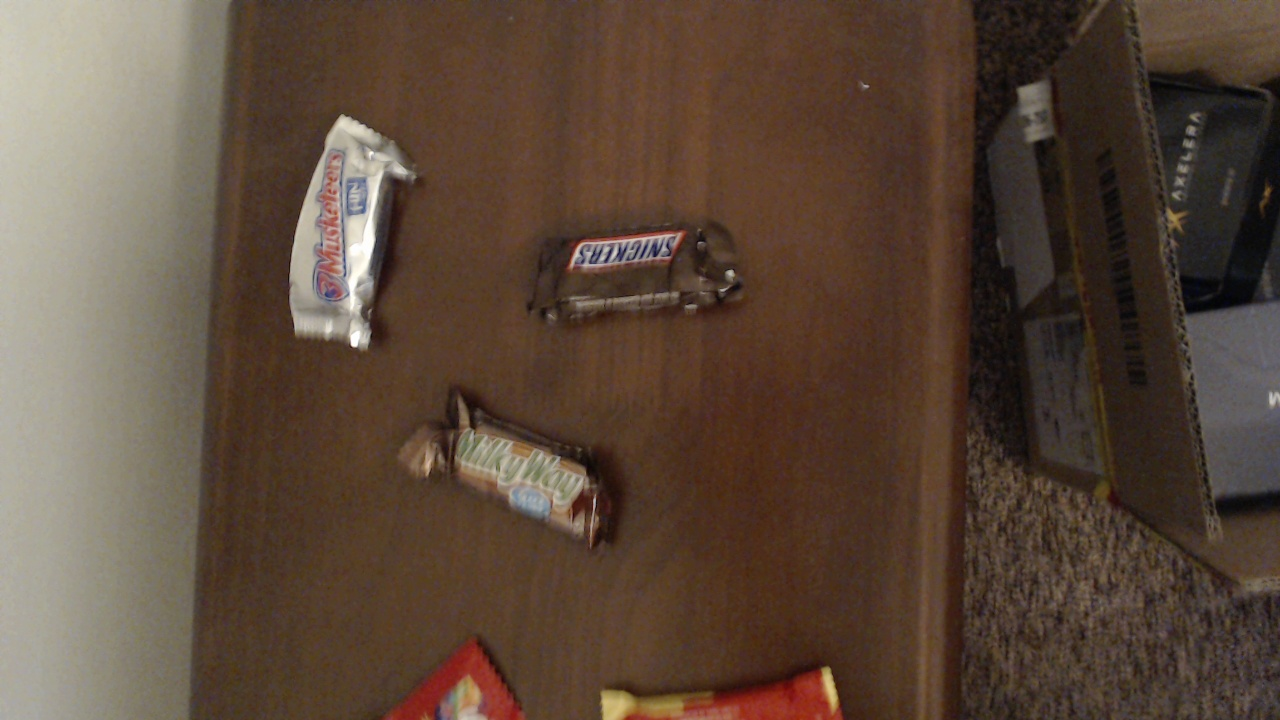milky_way: (359, 378, 626, 554)
skittles: (332, 645, 572, 720)
snickers: (506, 223, 757, 320)
starbust: (572, 672, 856, 720)
three_musketeers: (270, 93, 443, 369)
